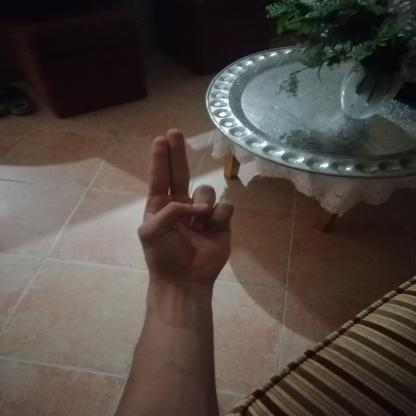TA: (120, 117, 243, 289)
